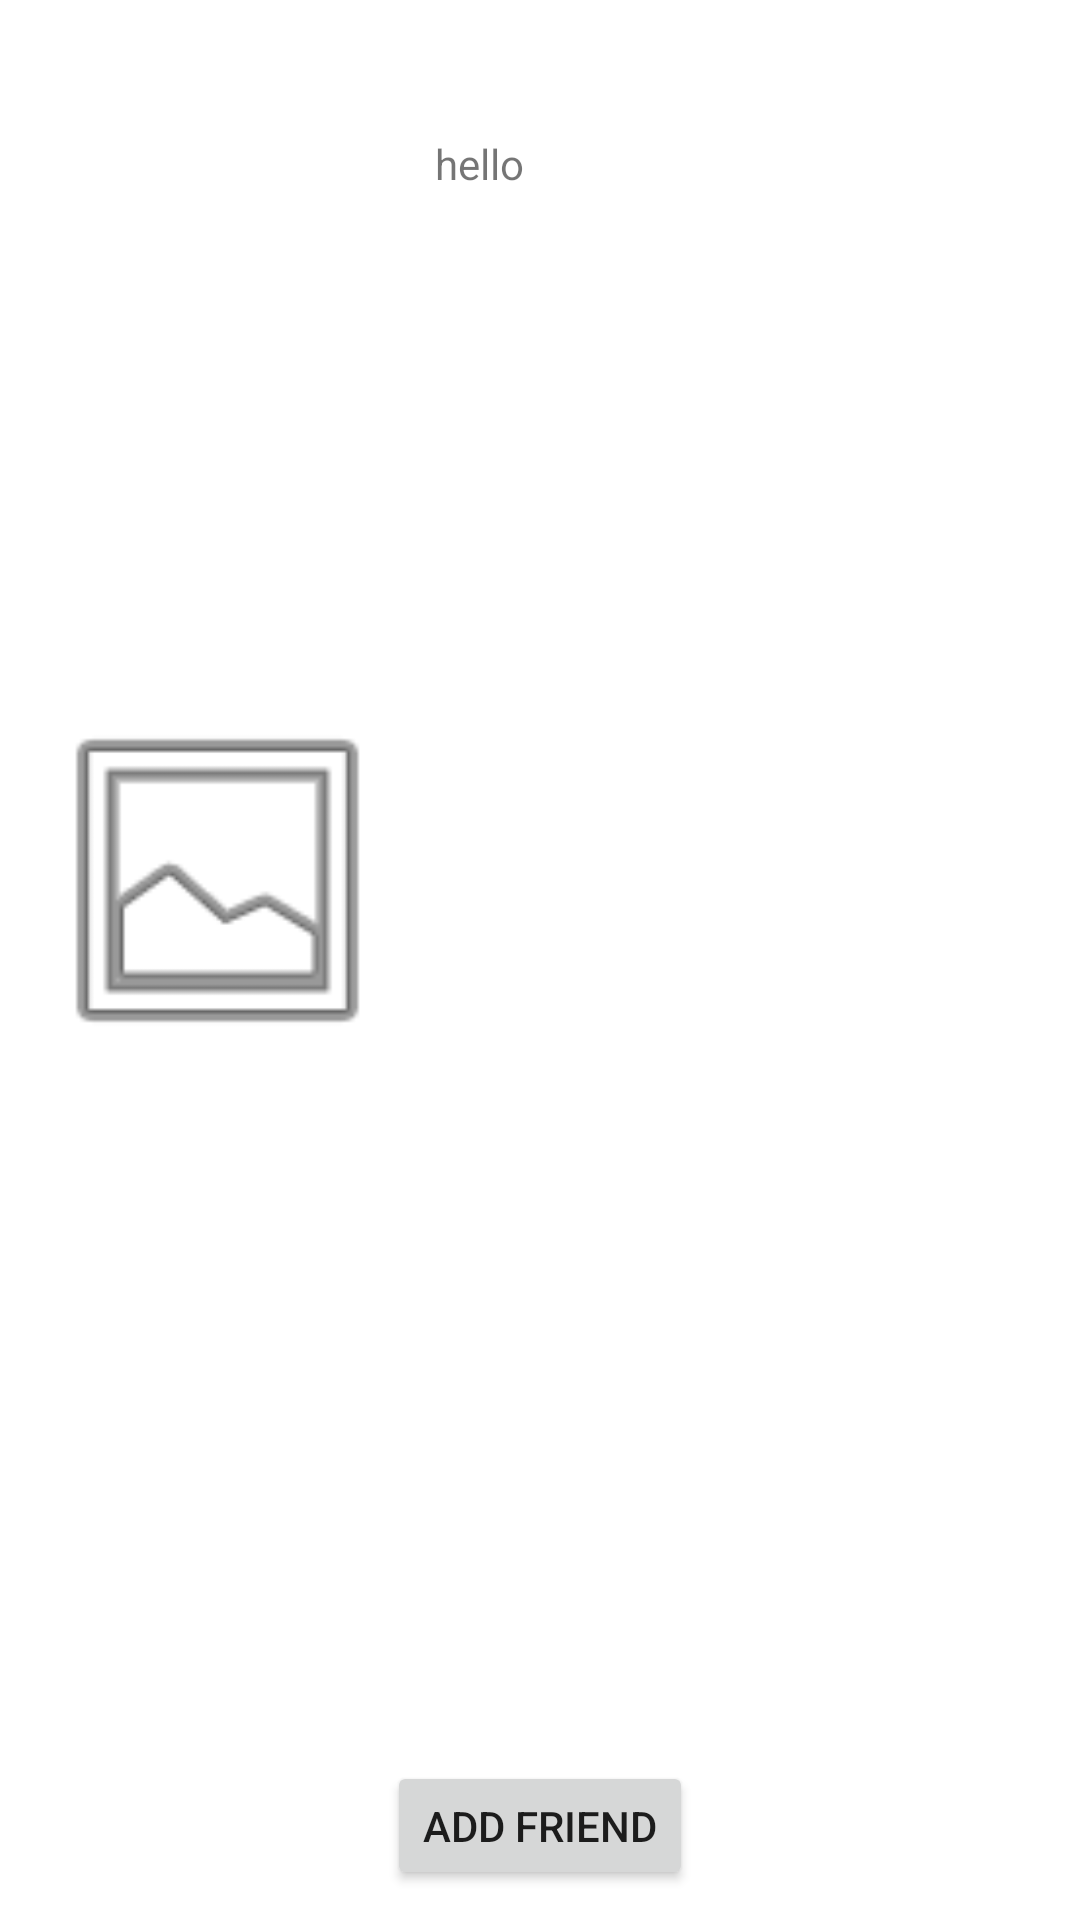

Where icons sit on this 1080 × 1920 app screen, as (x1, y1, x2, y2):
gallery: (76, 739, 359, 1022)
